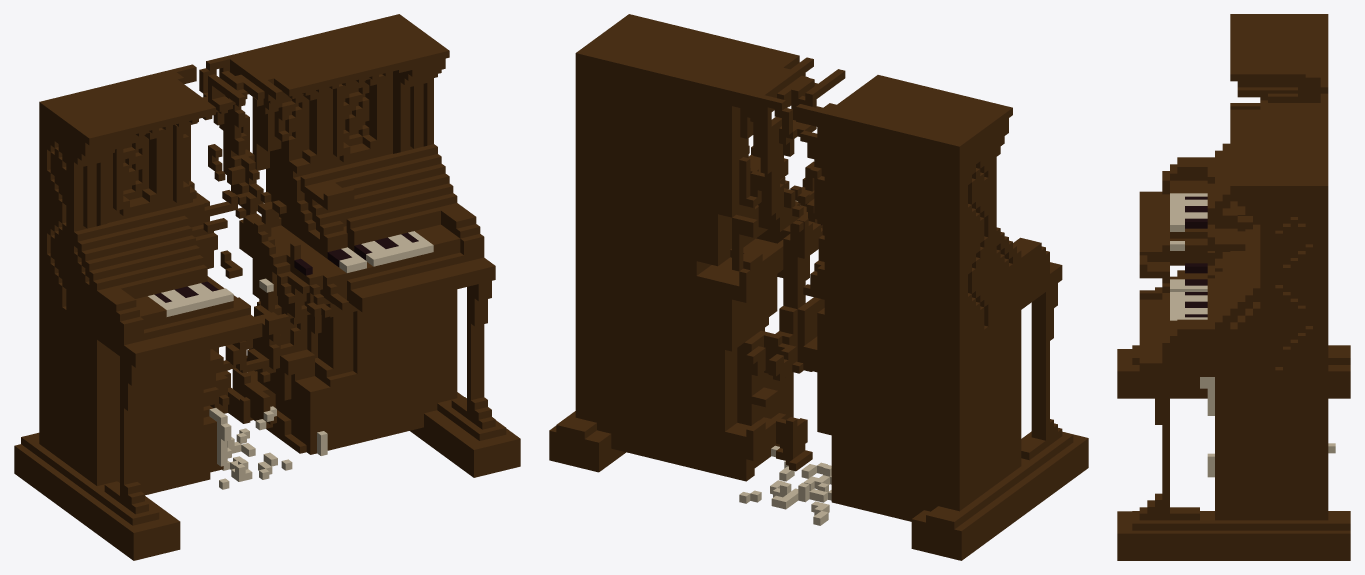
The model's file is Piano brise.obj.
3 renders of one model, left to right at view 1: azimuth 30°, elevation 25°; view 2: azimuth 150°, elevation 25°; view 3: azimuth 270°, elevation 25°, orthographic. The views are drawn at different scales.
Visible parts, largest first — view 1: Piano brise; view 2: Piano brise; view 3: Piano brise.
Part boxes in pixels (x1,y1,x2,y2): Piano brise: (14,14,520,560); Piano brise: (549,14,1088,560); Piano brise: (1117,14,1350,560).
Size of the model in its own units: 58 by 55 by 31.
1 material, 1 textured.
